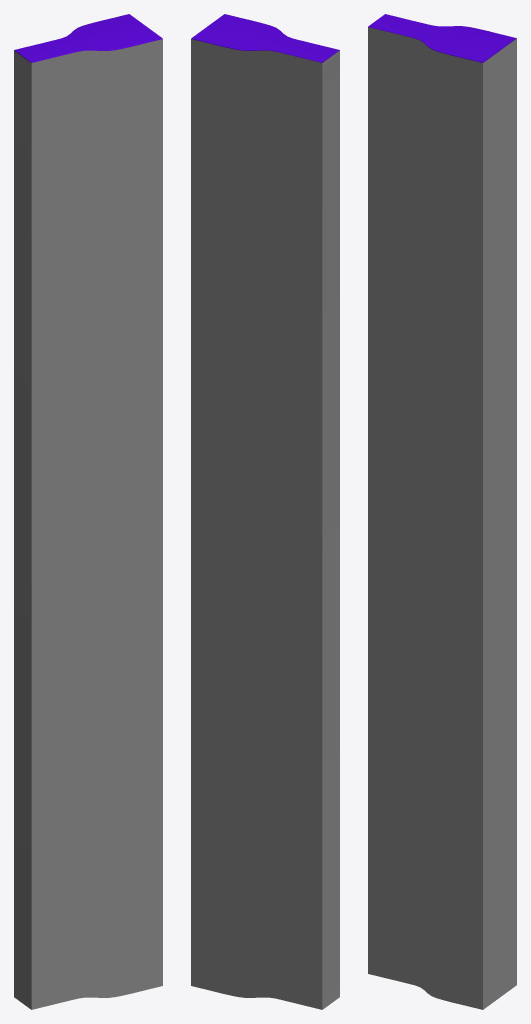
Rendered from finish_uvli_2.FBX.
3 renders of one model, left to right at view 1: azimuth 30°, elevation 25°; view 2: azimuth 150°, elevation 25°; view 3: azimuth 330°, elevation 25°, orthographic.
Visible parts, largest first — view 1: Object018; view 2: Object018; view 3: Object018.
Part boxes in pixels (x1,y1,x2,y2): Object018: (14, 14, 162, 1009); Object018: (191, 14, 339, 1009); Object018: (368, 14, 516, 1009).
Bounding box in the file's own units: 0.6831 × 0.3268 × 5.02.
